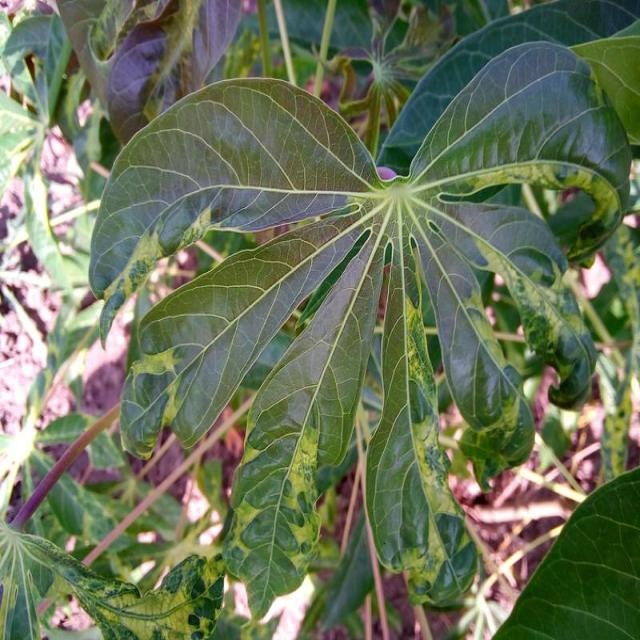cassava leaf: (88, 36, 634, 622)
